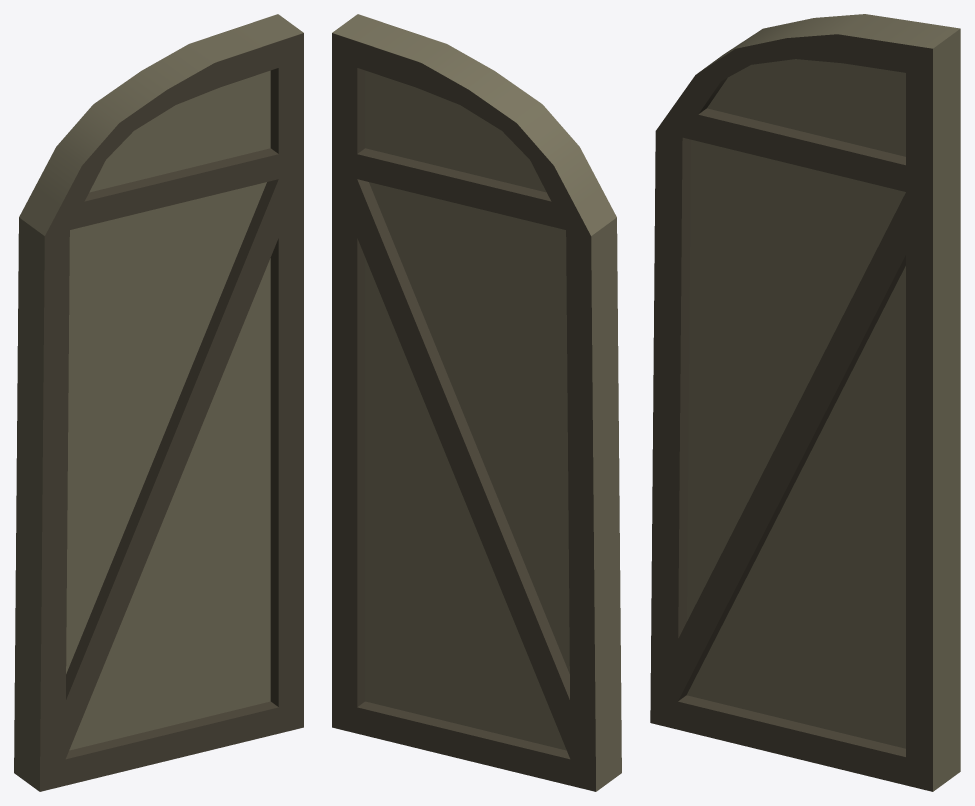
Rendered from ArchSmlDoor.fbx.
3 renders of one model, left to right at view 1: azimuth 30°, elevation 25°; view 2: azimuth 150°, elevation 25°; view 3: azimuth 330°, elevation 25°, orthographic. The views are drawn at different scales.
Visible parts, largest first — view 1: ArchSmlDoor; view 2: ArchSmlDoor; view 3: ArchSmlDoor.
Boxes of the visible parts, left/top/right/bottom form: ArchSmlDoor: left=14, top=14, right=303, bottom=791; ArchSmlDoor: left=332, top=14, right=621, bottom=791; ArchSmlDoor: left=650, top=14, right=960, bottom=791.
Size of the model in its own units: 94.48 by 16 by 237.
